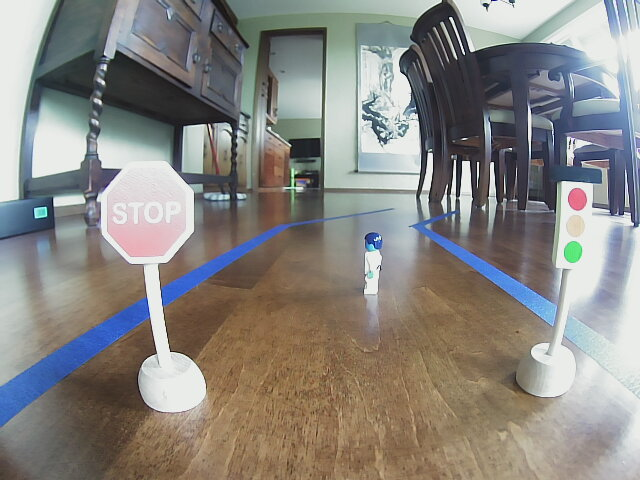StopSign: (102, 166, 187, 264)
TrafficLight: (556, 167, 590, 269)
person: (357, 227, 385, 297)
